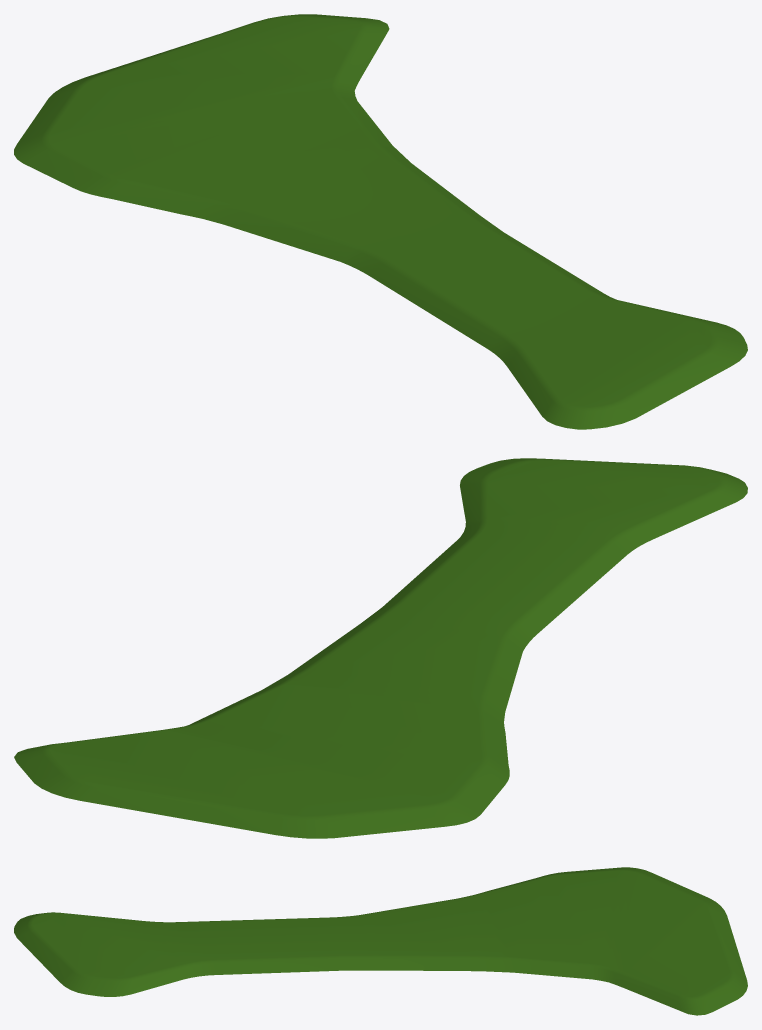
File: GroundPadding05_2.fbx
3 views of the same model, one above another, from view 1: azimuth 30°, elevation 25°; view 2: azimuth 150°, elevation 25°; view 3: azimuth 270°, elevation 25° (orthographic). The views are drawn at different scales.
Parts seen in each view (by area): view 1: LOD0; view 2: LOD0; view 3: LOD0.
Boxes of the visible parts, <box> form: LOD0: <box>14,14,747,429</box>; LOD0: <box>14,458,747,838</box>; LOD0: <box>14,867,747,1015</box>.
Size of what is drawn, in the model's own units: 863 by 1806 by 20.61.
